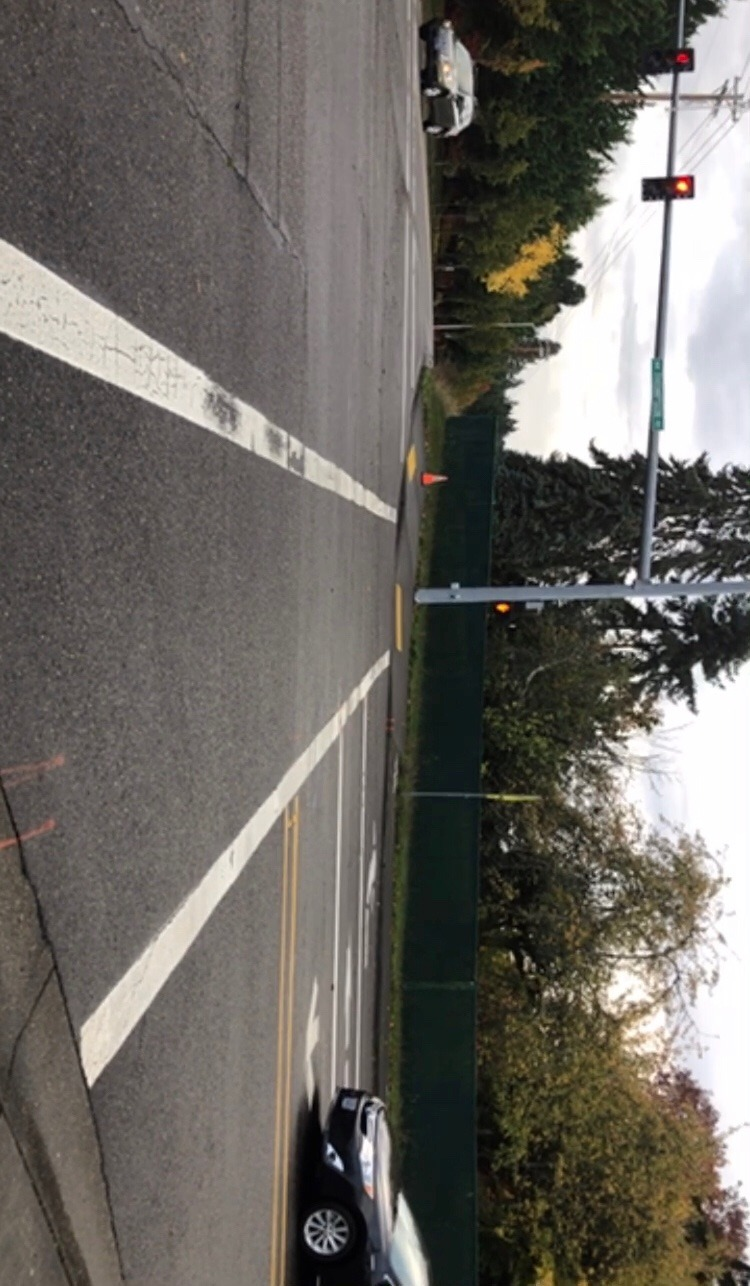pedestrian_stop: (490, 595, 523, 620)
